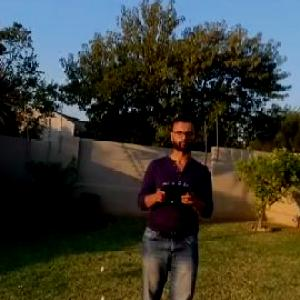follow: (132, 104, 219, 299)
